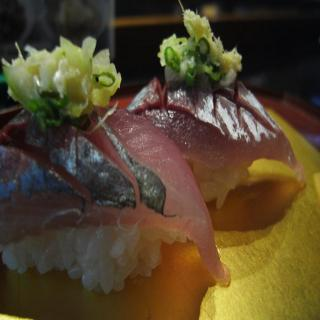Sushi: (0, 36, 228, 294), (128, 1, 306, 208)
